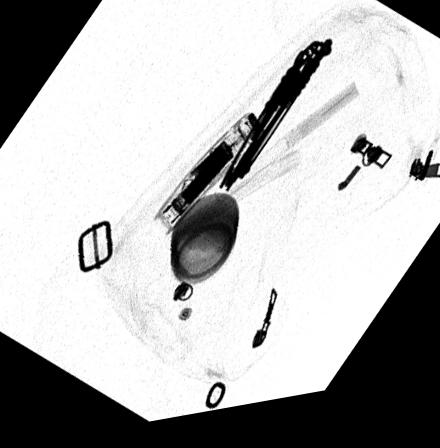HandCuffs: (218, 48, 332, 199)
